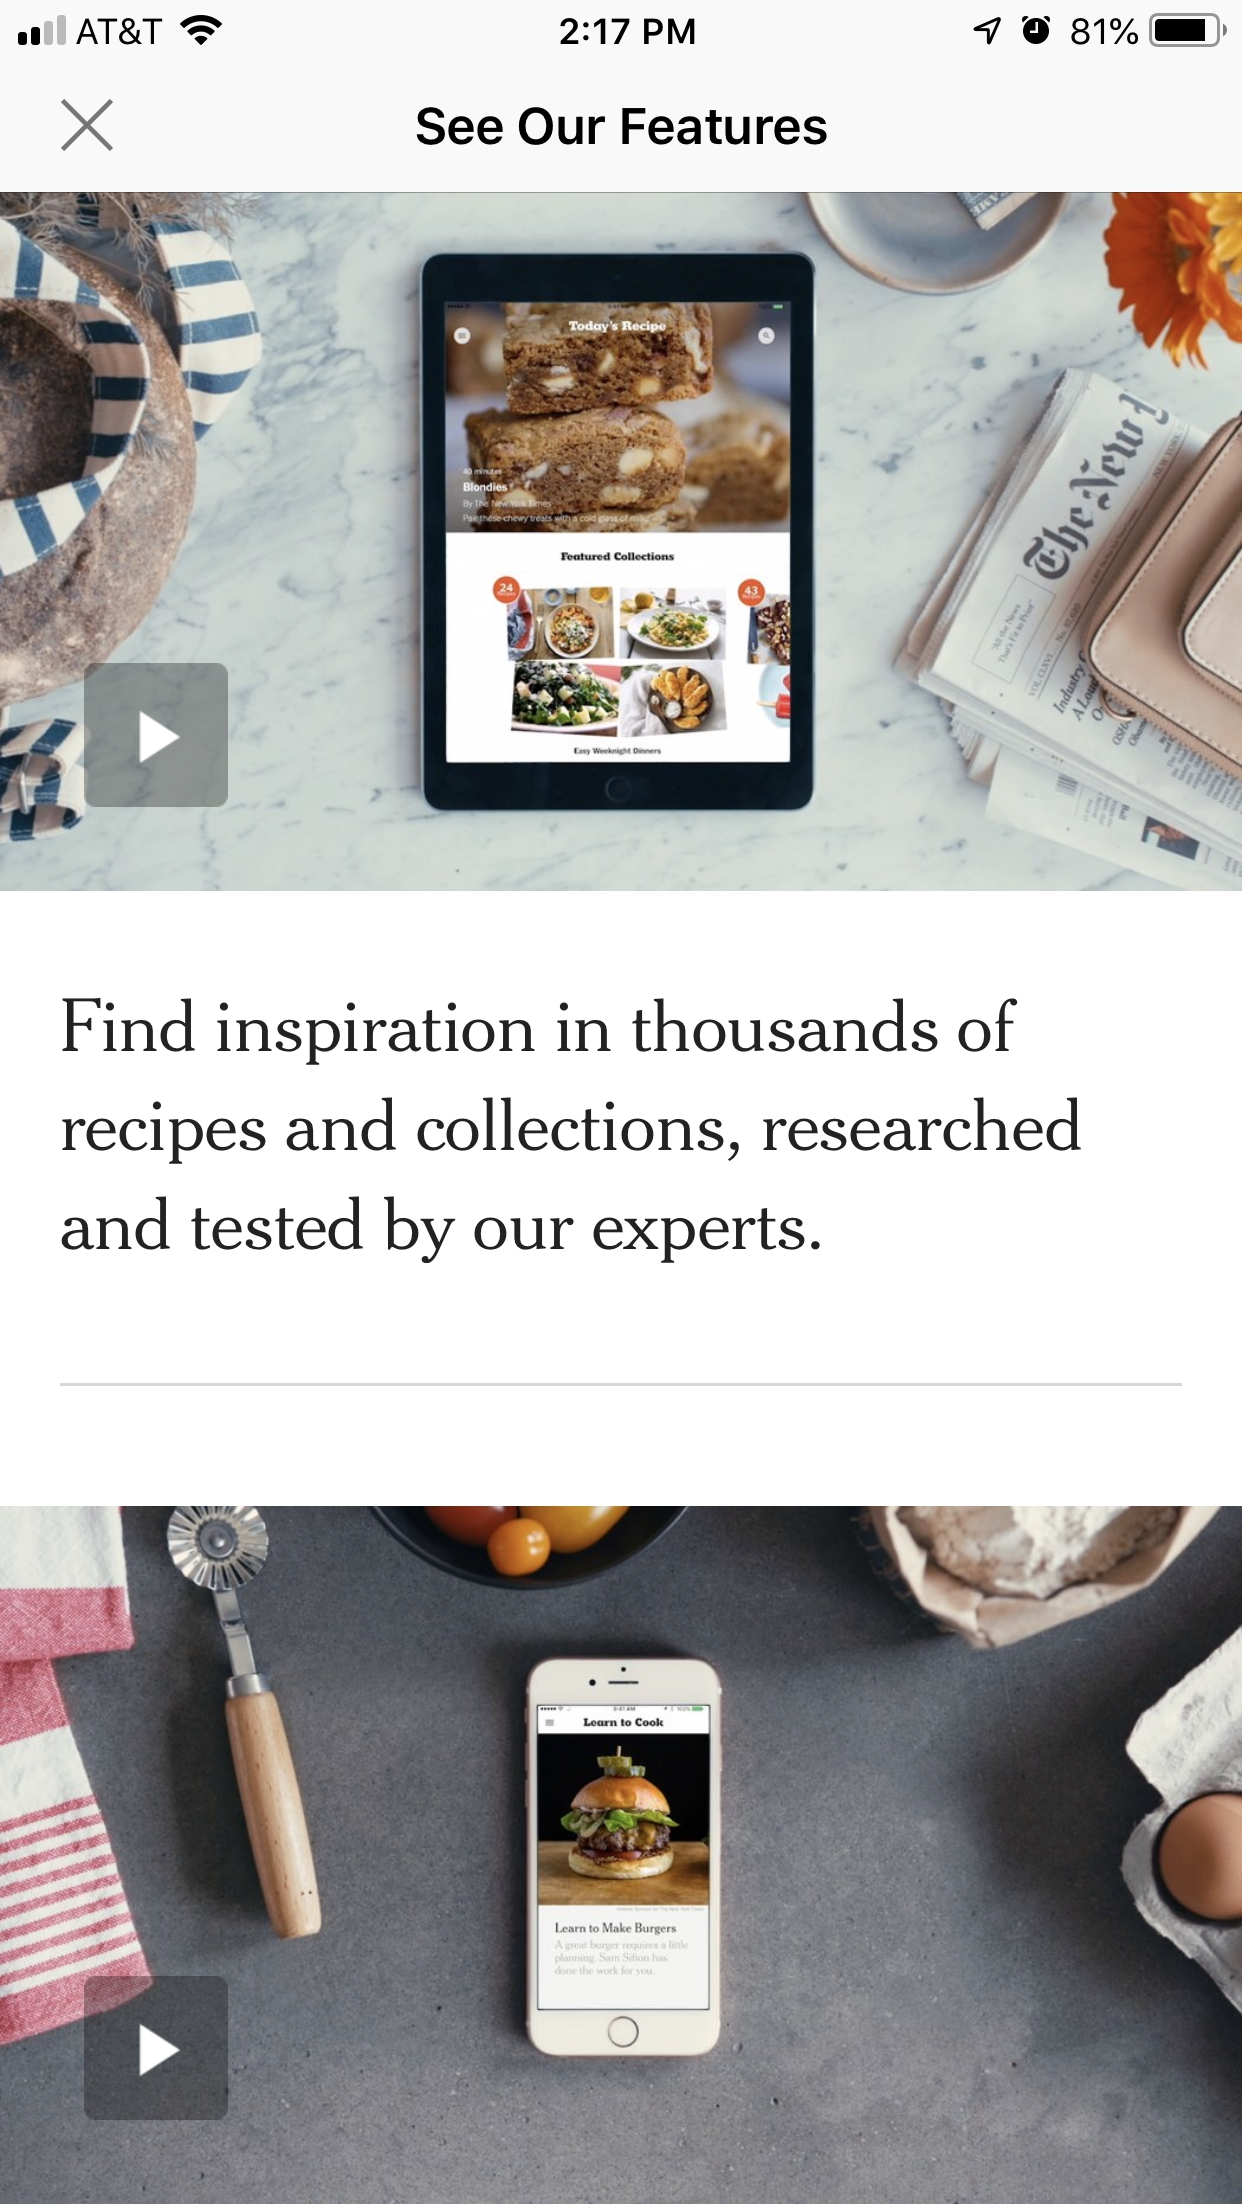Icon: (61, 99, 115, 153), (138, 710, 182, 764), (140, 2021, 182, 2078)
Image: (2, 193, 1242, 892), (2, 1506, 1242, 2205)
Text: (62, 996, 1081, 1265), (416, 108, 828, 147)
UpperTaskBar: (2, 2, 1242, 49)
